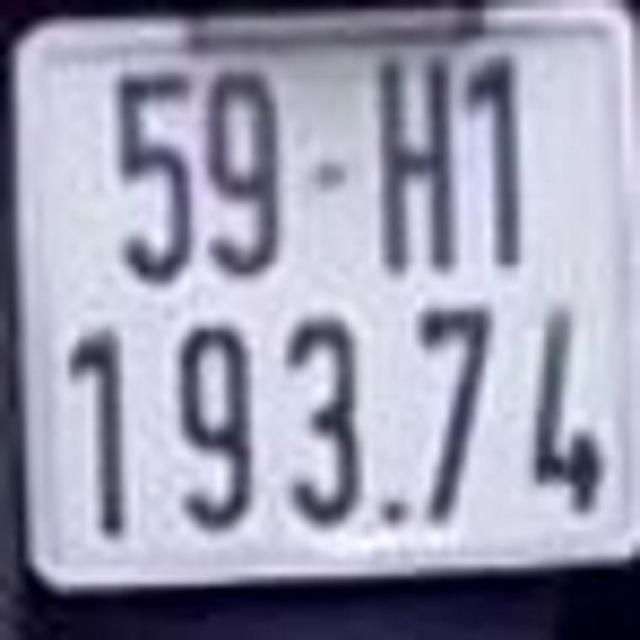1: (67, 330, 126, 534), (468, 55, 520, 266)
3: (284, 314, 362, 529)
4: (536, 304, 604, 513)
5: (116, 72, 194, 280)
7: (423, 304, 488, 514)
9: (177, 320, 254, 525), (208, 69, 276, 272)
H: (378, 51, 456, 272)
